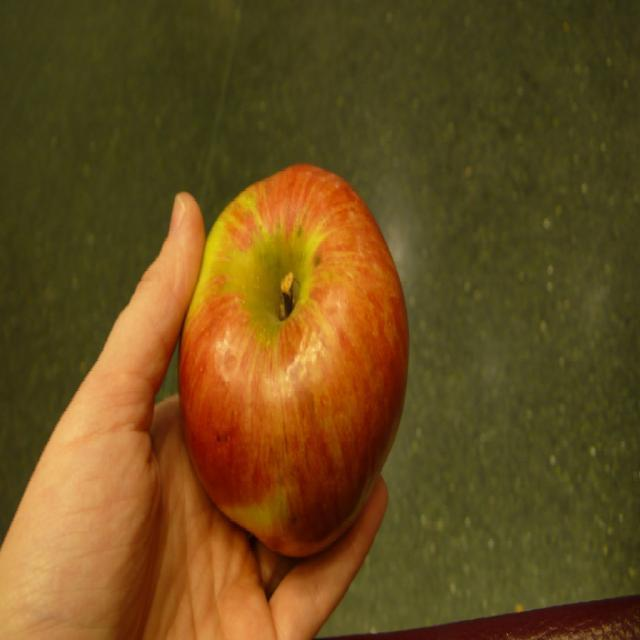Apple: (176, 161, 410, 558)
